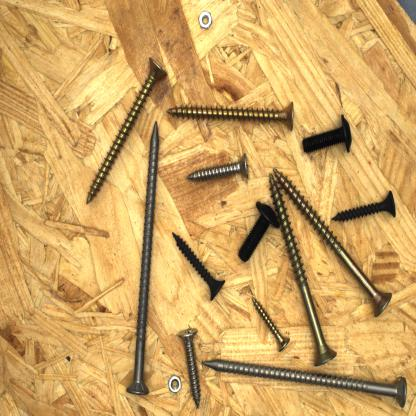screw: (270, 164, 396, 321), (267, 170, 340, 370), (84, 51, 169, 208), (200, 357, 410, 411), (124, 119, 161, 400), (165, 96, 298, 134), (169, 228, 229, 306), (234, 197, 282, 266), (298, 111, 356, 159), (174, 324, 205, 412), (250, 294, 292, 354), (328, 188, 398, 224)
